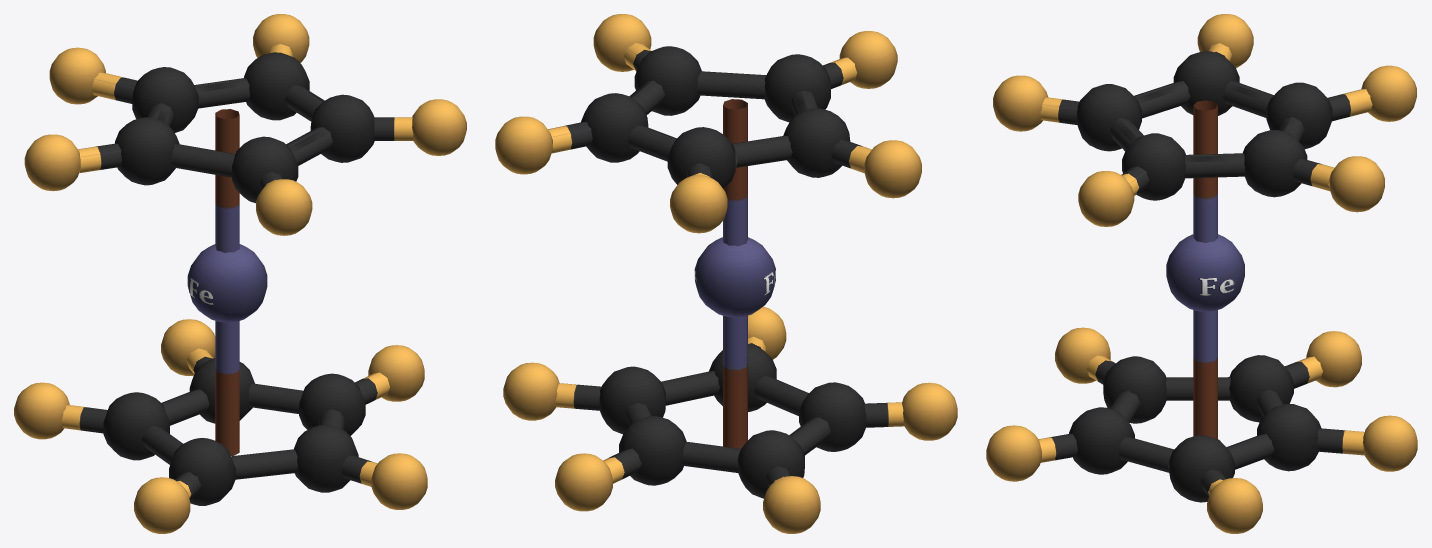
File: Ferrocene(staggered).dae
The picture shows the model from 3 angles, left to right: view 1: azimuth 30°, elevation 25°; view 2: azimuth 150°, elevation 25°; view 3: azimuth 270°, elevation 25°; orthographic projection. The views are drawn at different scales.
Visible parts, largest first — view 1: Mesh; view 2: Mesh; view 3: Mesh.
Boxes of the visible parts, left/top/right/bottom form: Mesh: left=14, top=14, right=466, bottom=533; Mesh: left=495, top=14, right=957, bottom=533; Mesh: left=986, top=14, right=1417, bottom=533.
Bounding box in the file's own units: 4.38 × 3.81 × 4.17.
Materials: 1 (1 with a texture image).
